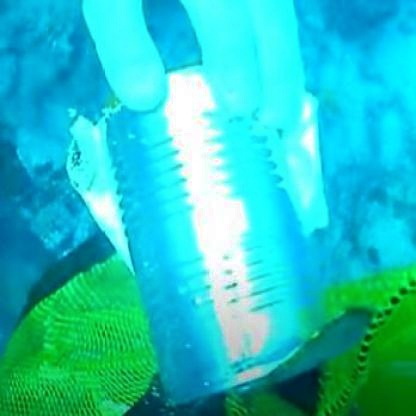can: (76, 73, 309, 398)
